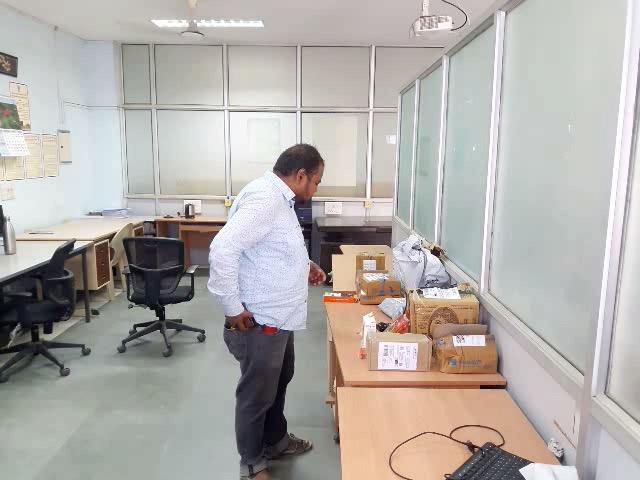shoplifting: (153, 264, 365, 410)
